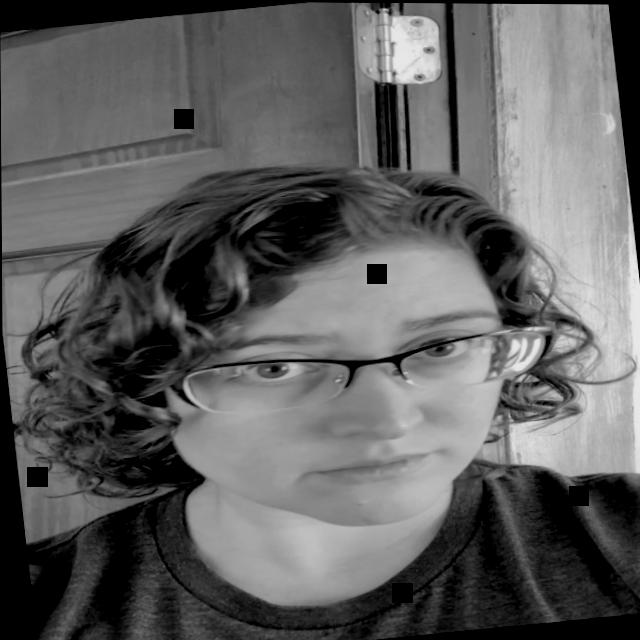NO-Mask: (142, 228, 518, 549)
